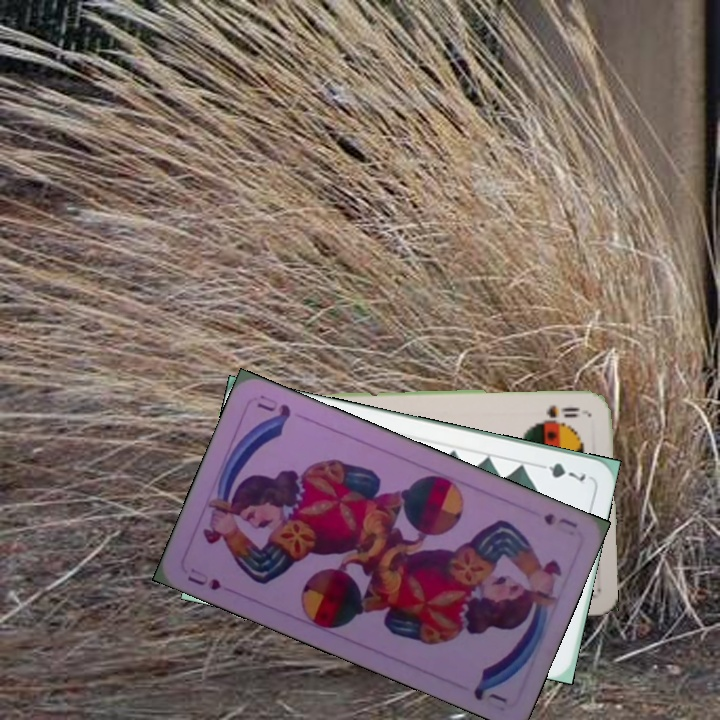G7: (532, 458, 589, 484)
SO: (542, 401, 582, 421)
SU: (183, 564, 224, 593), (539, 509, 580, 531)
